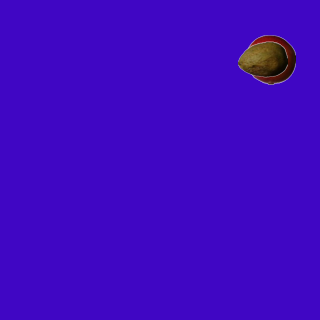Apple Braeburn: (245, 34, 295, 84)
Papaya: (237, 34, 287, 84)
